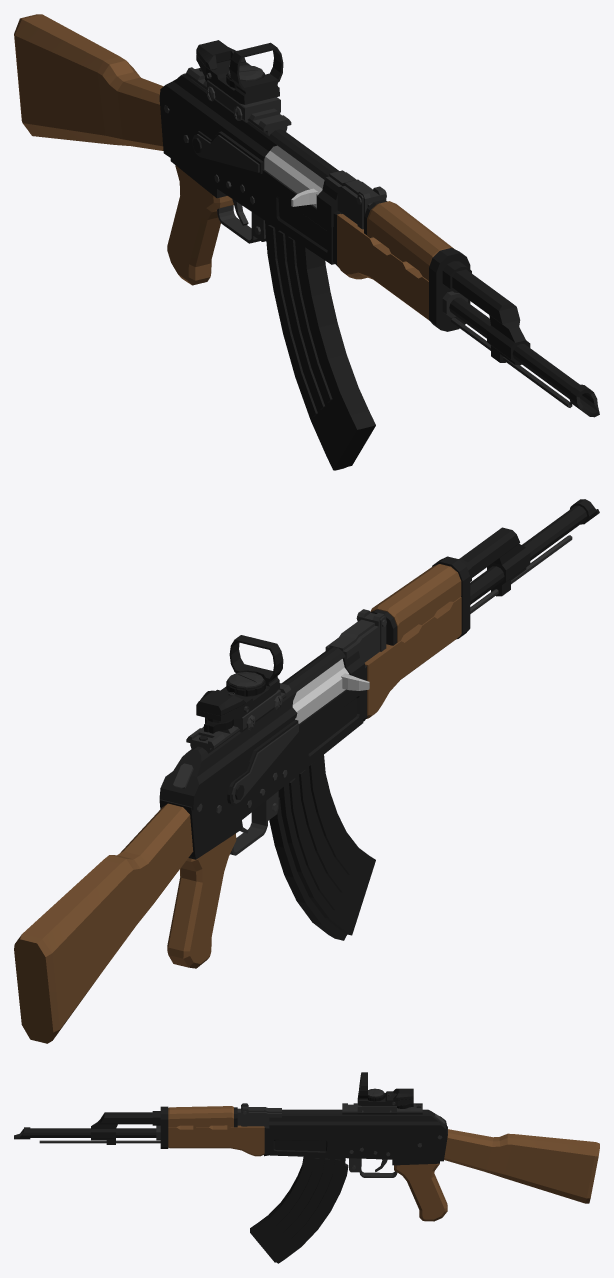
3 renders of one model, top to bottom at view 1: azimuth 30°, elevation 25°; view 2: azimuth 150°, elevation 25°; view 3: azimuth 270°, elevation 25°, orthographic. The views are drawn at different scales.
Visible parts, largest first — view 1: assault_rifle_01, scope_02, rails; view 2: assault_rifle_01, scope_02, rails; view 3: assault_rifle_01, scope_02, rails.
Part boxes in pixels (box(x1,y1,x2,y2)): assault_rifle_01: box(14, 14, 599, 470); scope_02: box(196, 40, 283, 122); rails: box(186, 67, 291, 135); assault_rifle_01: box(14, 499, 599, 1043); scope_02: box(196, 635, 283, 733); rails: box(186, 683, 291, 753); assault_rifle_01: box(14, 1103, 599, 1263); scope_02: box(357, 1072, 413, 1114); rails: box(342, 1103, 422, 1114).
Size of the model in its own units: 0.0584 by 0.3224 by 0.9219.
1 material, 1 textured.
